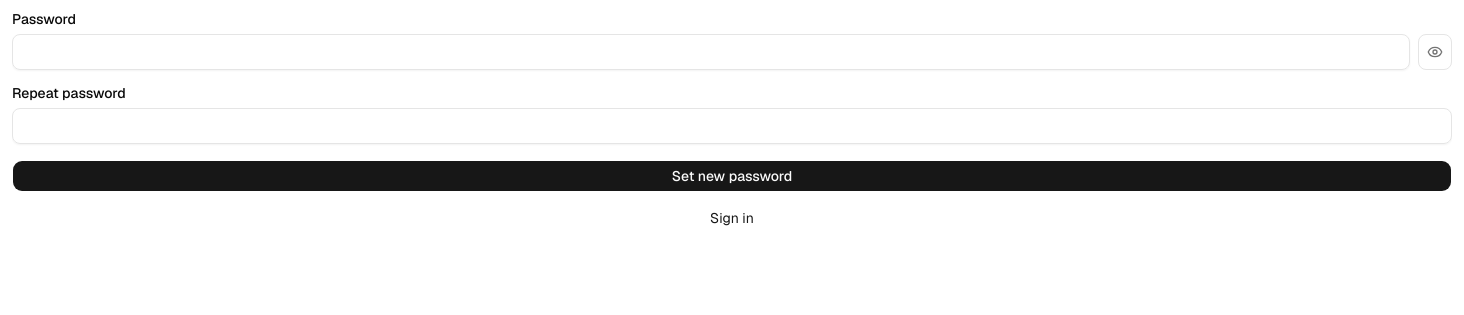
Scenario: ResetPasswordView › disables submit after successful reset
Type "12345678" into the password field labelled "Password" at (711, 52), box [12, 34, 1410, 70]
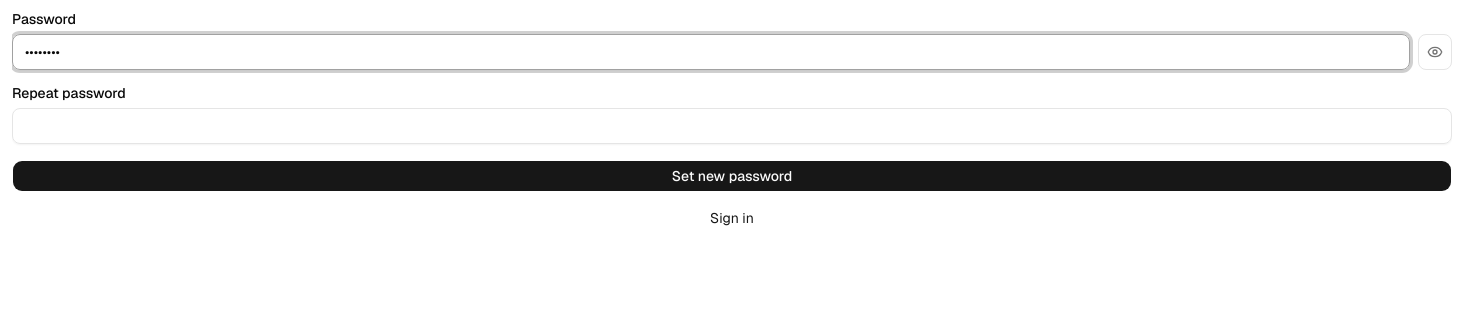
Type "12345678" into the password field labelled "Repeat password" at (732, 126), box [12, 108, 1452, 144]
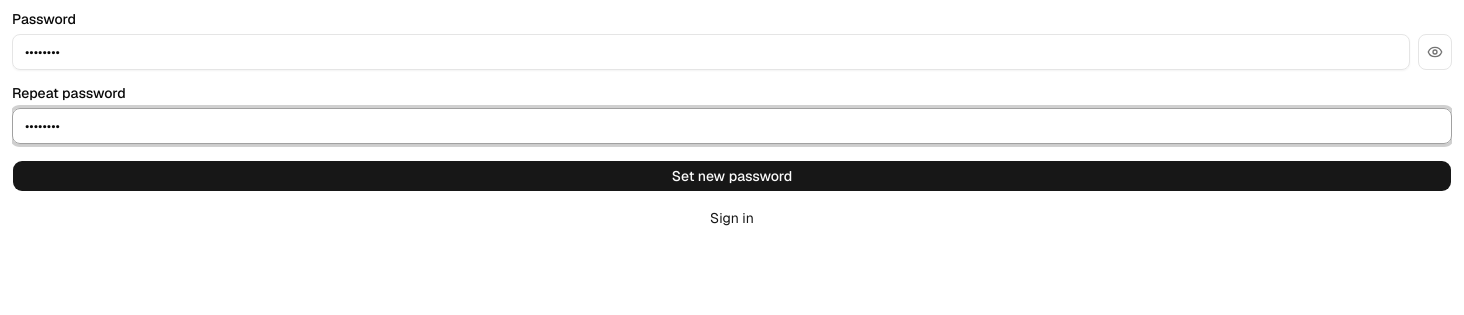
Click the button "Set new password" at (732, 176), box [12, 160, 1452, 192]
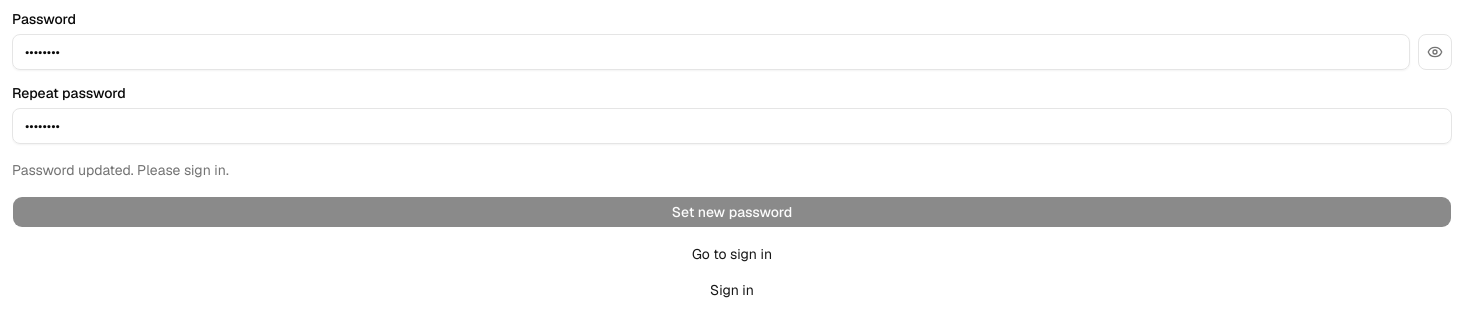
Result: the button "Set new password" is disabled at [12, 196, 1452, 228]
